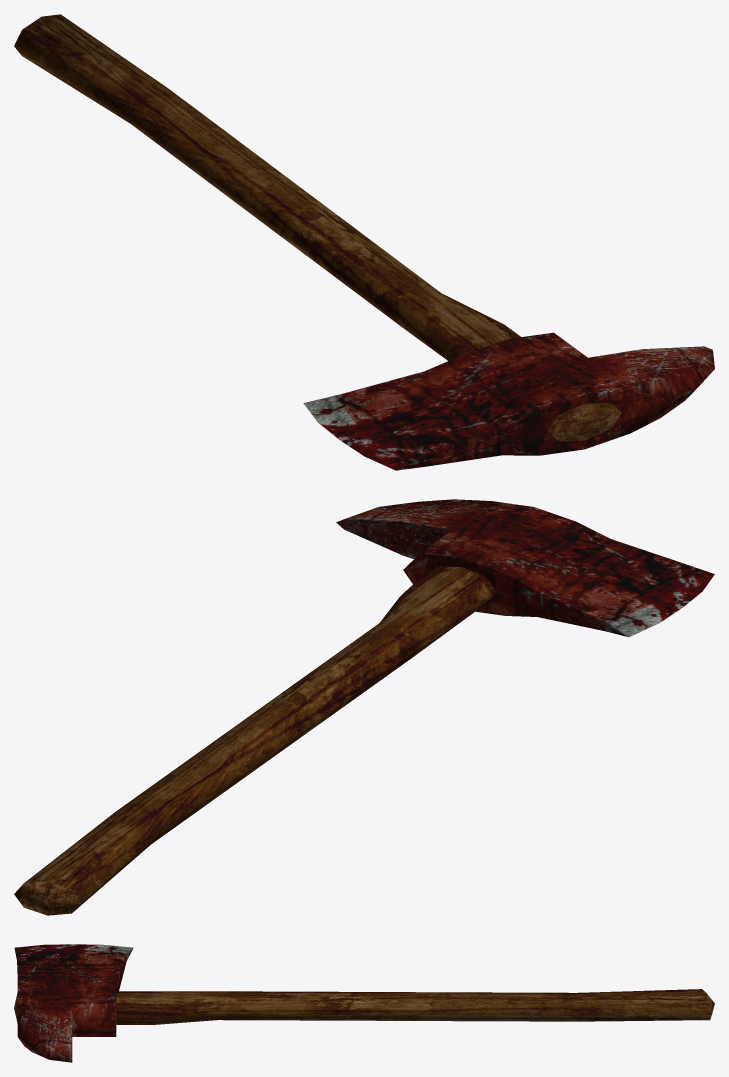
Rendered from weapon_fireaxe.dae.
3 renders of one model, top to bottom at view 1: azimuth 30°, elevation 25°; view 2: azimuth 150°, elevation 25°; view 3: azimuth 270°, elevation 25°, orthographic. The views are drawn at different scales.
Visible parts, largest first — view 1: pCylinder1; view 2: pCylinder1; view 3: pCylinder1.
Boxes of the visible parts, <box> form: pCylinder1: <box>14,14,714,470</box>; pCylinder1: <box>14,499,714,915</box>; pCylinder1: <box>14,944,714,1062</box>.
Bounding box in the file's own units: 0.3084 × 0.0432 × 0.7772.
